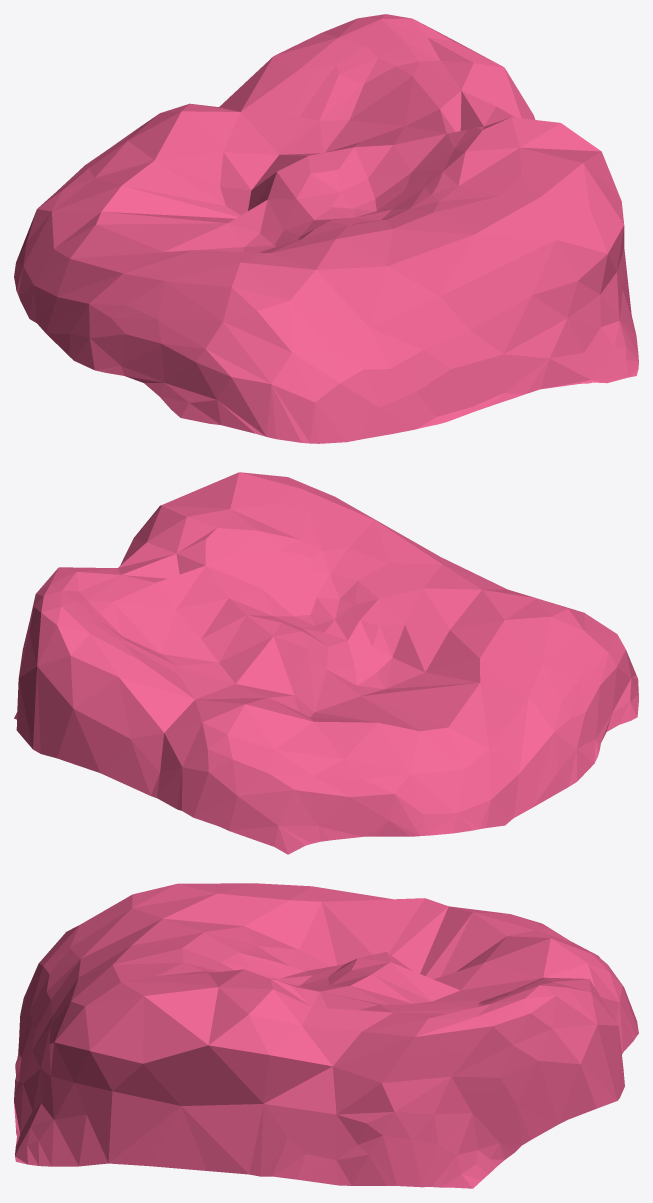
File: ground_017.fbx
The picture shows the model from 3 angles, top to bottom: view 1: azimuth 30°, elevation 25°; view 2: azimuth 150°, elevation 25°; view 3: azimuth 270°, elevation 25°; orthographic projection. The views are drawn at different scales.
Visible parts, largest first — view 1: ground.017; view 2: ground.017; view 3: ground.017.
Boxes of the visible parts, box(x1,y1,x2,y2) form: ground.017: box(14, 14, 638, 443); ground.017: box(14, 472, 638, 854); ground.017: box(14, 883, 638, 1188).
Bounding box in the file's own units: 2343 × 748 × 2399.
1 material, 1 textured.
